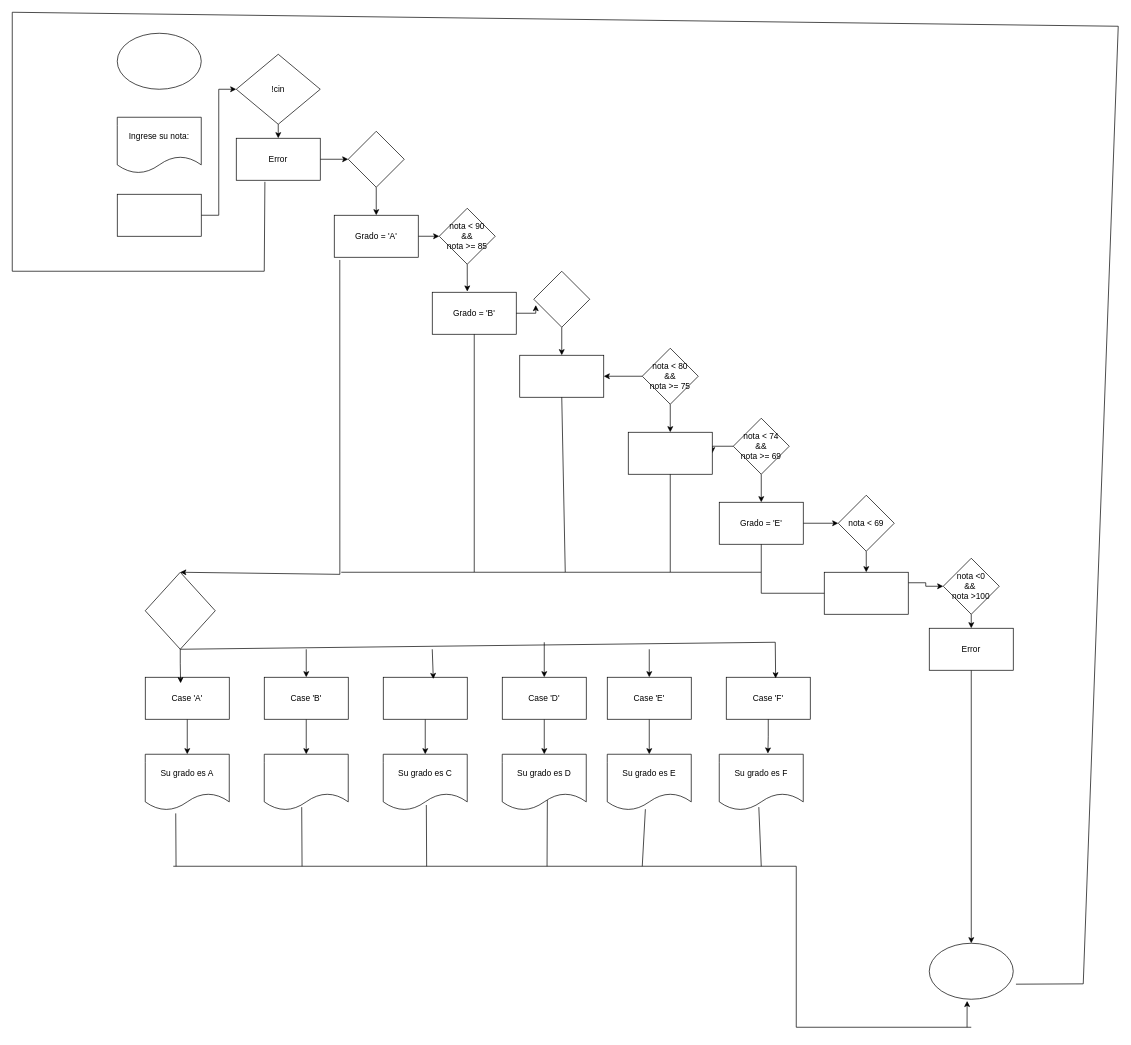
Image size: 1131x1045. Some labels were removed from this diagram. Each missing label, with the centre of its shape:
"Case 'C'" belongs at [425,698].
"Fin" belongs at [971,971].
"Grado" belongs at [180,610].
"Grado = 'C'" belongs at [561,376].
"Grado = 'D'" belongs at [670,453].
"Grado = 'F'" belongs at [866,593].
"Inicio" belongs at [159,61].
"Leer Nota" belongs at [159,215].
"nota < 85 && nota >= 80" belongs at [561,299].
"nota>=90 && nota<=100" belongs at [376,159].
"Su grado es B" belongs at [306,782].
